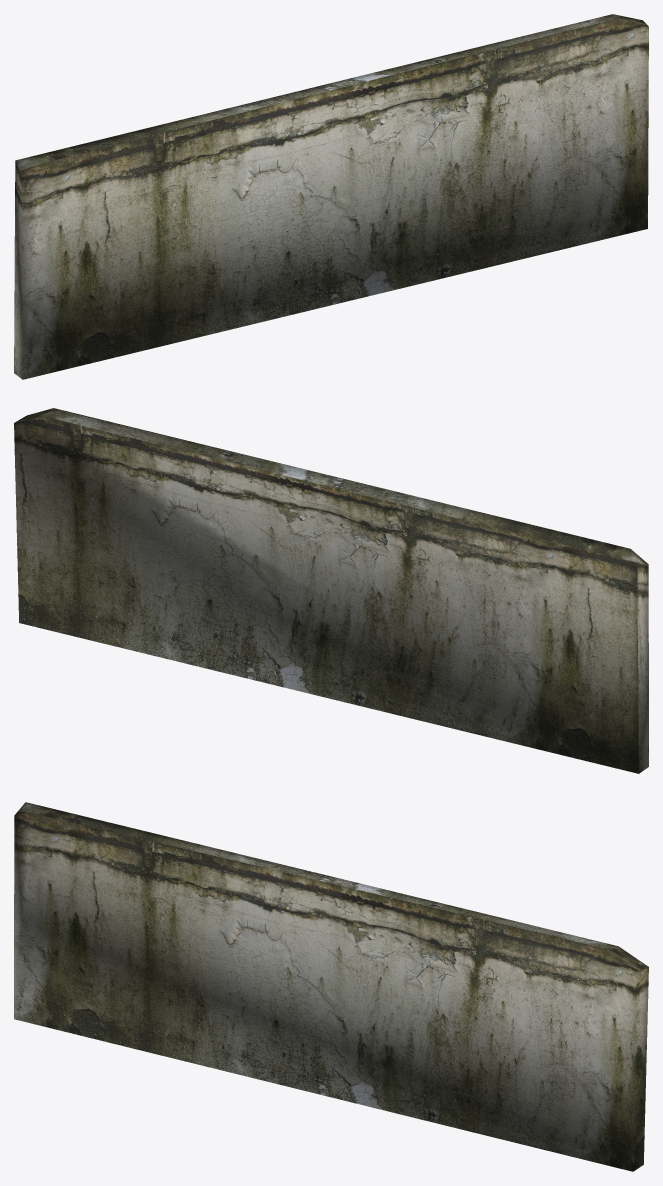
The model's file is Pared_con_musgo3.obj.
3 renders of one model, top to bottom at view 1: azimuth 30°, elevation 25°; view 2: azimuth 150°, elevation 25°; view 3: azimuth 330°, elevation 25°, orthographic.
Visible parts, largest first — view 1: Default.001; view 2: Default.001; view 3: Default.001.
Boxes of the visible parts, <box> form: Default.001: <box>14,14,648,379</box>; Default.001: <box>14,408,648,773</box>; Default.001: <box>14,802,648,1171</box>.
Size of the model in its own units: 16.37 by 5.37 by 0.5715.
Materials: 1 (1 with a texture image).
